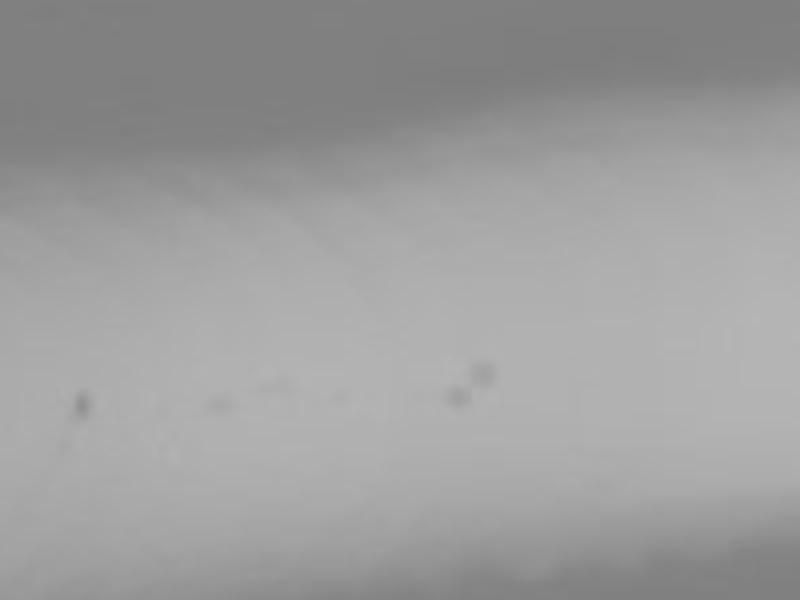defect: (473, 357, 494, 391), (444, 385, 471, 410), (71, 388, 90, 423), (208, 392, 231, 411)
